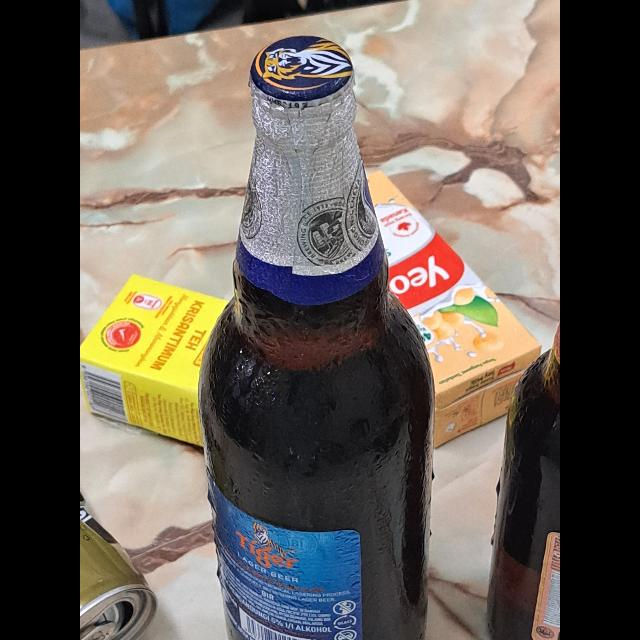aba de lata: (80, 620, 120, 640)
caixinha: (362, 168, 544, 448), (80, 274, 234, 446)
garrafa de vidro: (198, 36, 434, 640), (488, 322, 560, 640)
lata: (80, 482, 158, 640)
